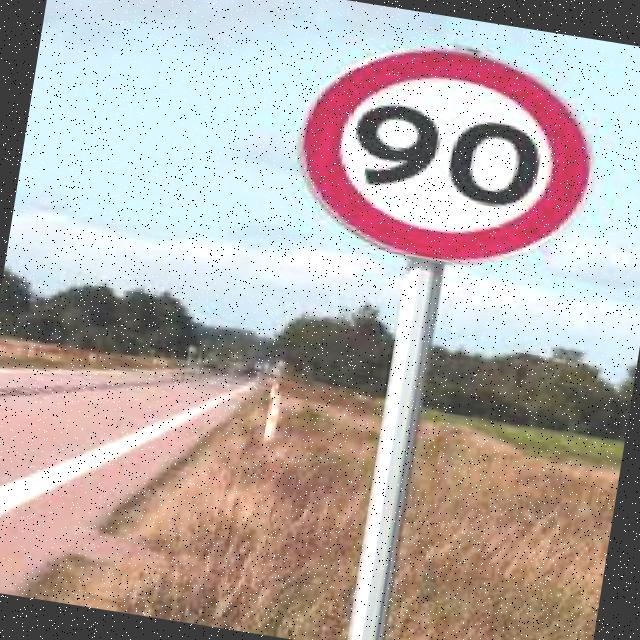Ograniczenie predkosci do 90: (288, 39, 600, 280)
